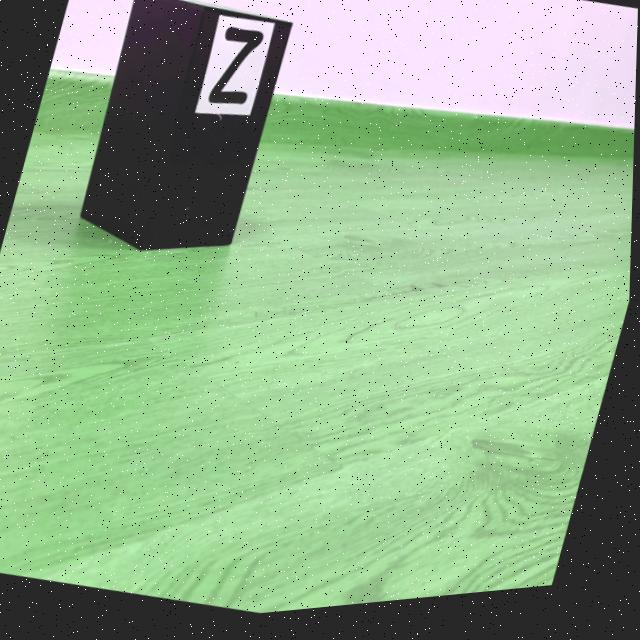Z: (209, 31, 263, 109)
